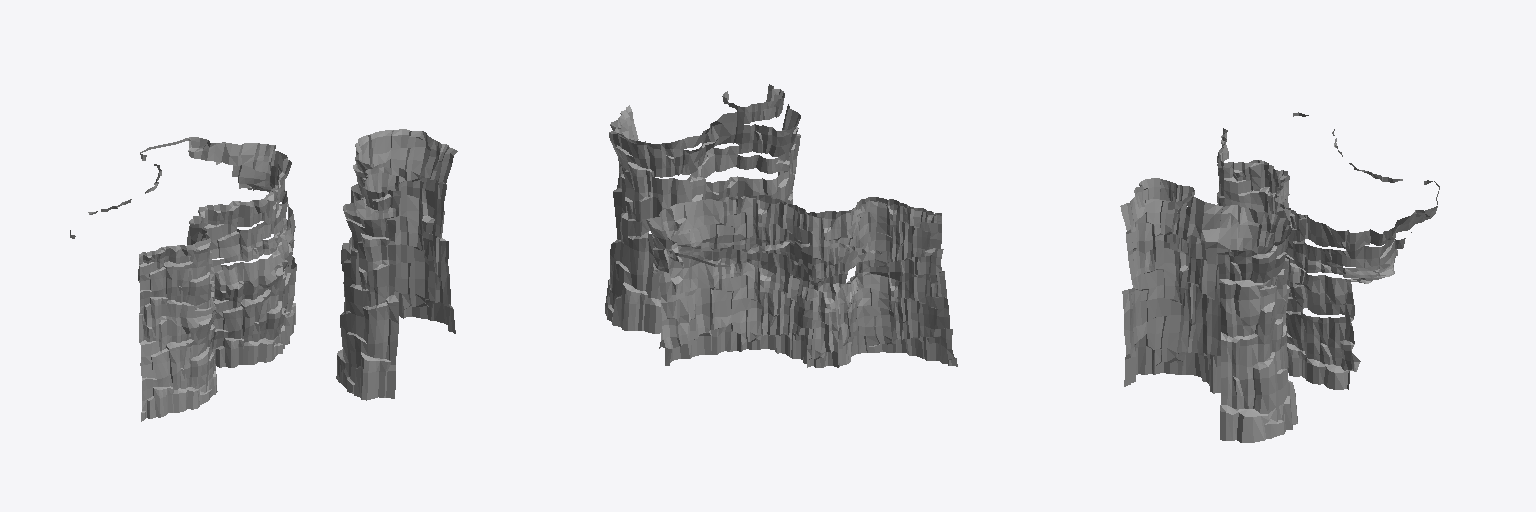
File: wall.obj
3 renders of one model, left to right at view 1: azimuth 30°, elevation 25°; view 2: azimuth 150°, elevation 25°; view 3: azimuth 270°, elevation 25°, orthographic.
Visible parts, largest first — view 1: Wall_1__di_rock; view 2: Wall_1__di_rock; view 3: Wall_1__di_rock.
Boxes of the visible parts, box(x1,y1,x2,y2) form: Wall_1__di_rock: box(70, 129, 457, 421); Wall_1__di_rock: box(605, 84, 957, 367); Wall_1__di_rock: box(1120, 112, 1439, 442).
Bounding box in the file's own units: 162 × 88.29 × 127.